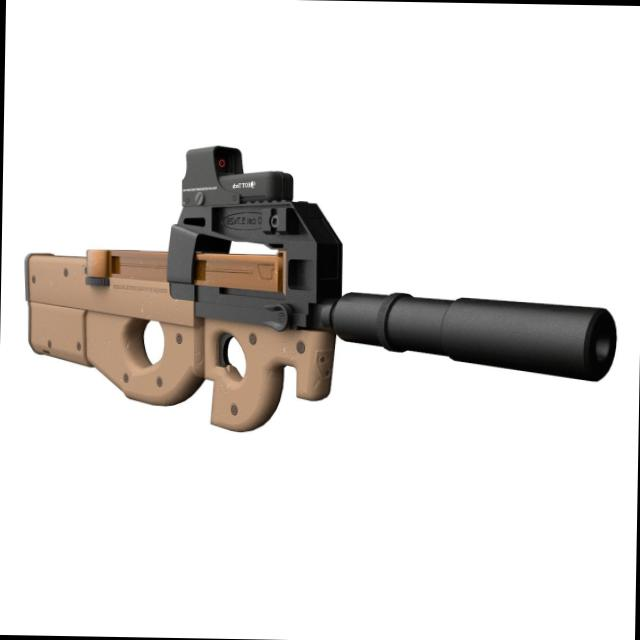Gun: (18, 144, 638, 460)
